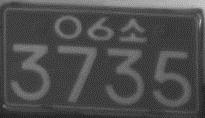0: (54, 13, 82, 40)
3: (9, 42, 51, 102), (104, 46, 145, 107)
5: (152, 49, 191, 108)
6: (87, 15, 114, 41)
7: (56, 43, 97, 103)
소: (118, 17, 147, 43)
